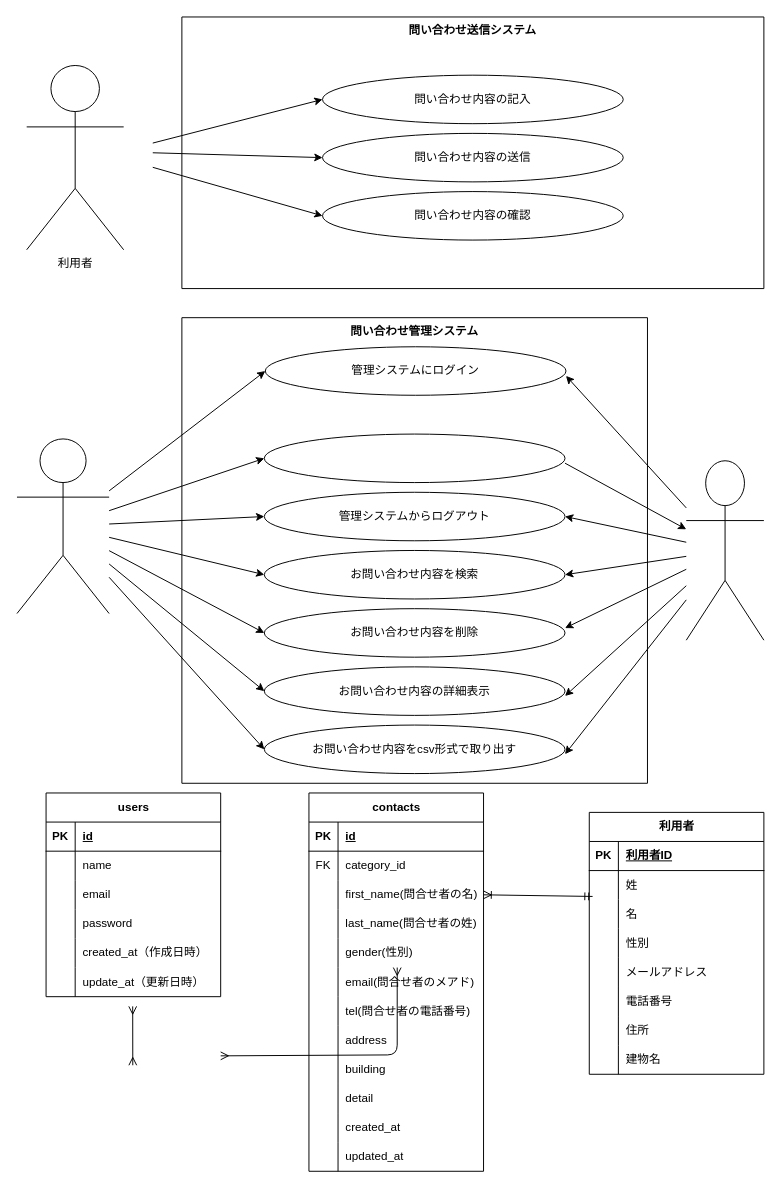
This 781x1188 diagram has some shape labels left out. The shapes that lost their labels are listed below. From the top down, each one's centre as x and y in pixels, then its label:
At (414,458): "新規ユーザーの作成・登録".
At (62,526): "管理者".
At (724,550): "新規管理者".
